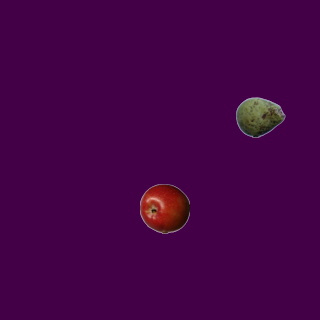Apple Braeburn: (139, 183, 189, 233)
Pear Stone: (235, 92, 285, 142)
